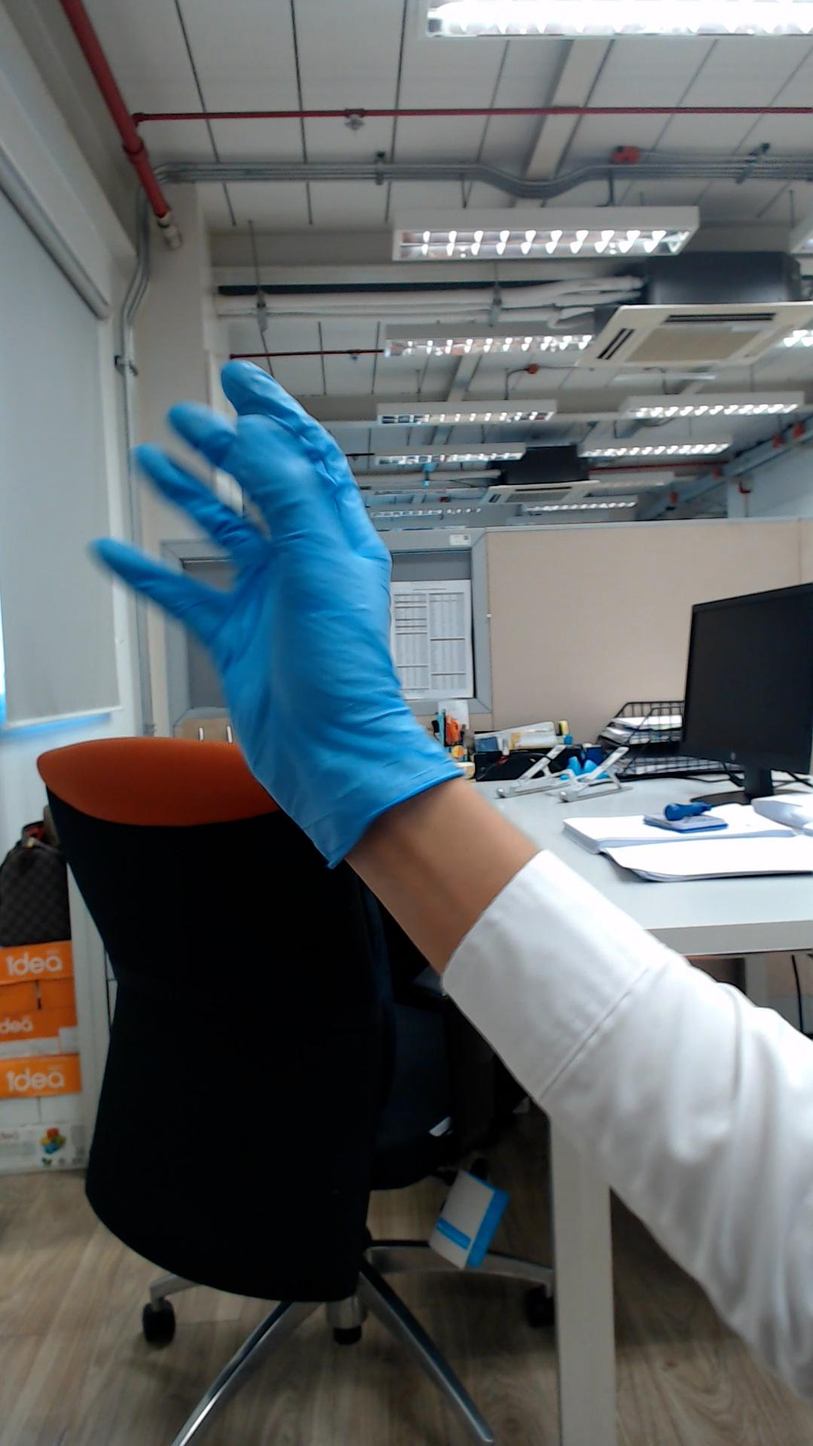gloves: (76, 332, 428, 726)
